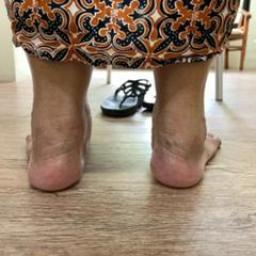Back View -Both Feet-: (11, 65, 228, 212)
